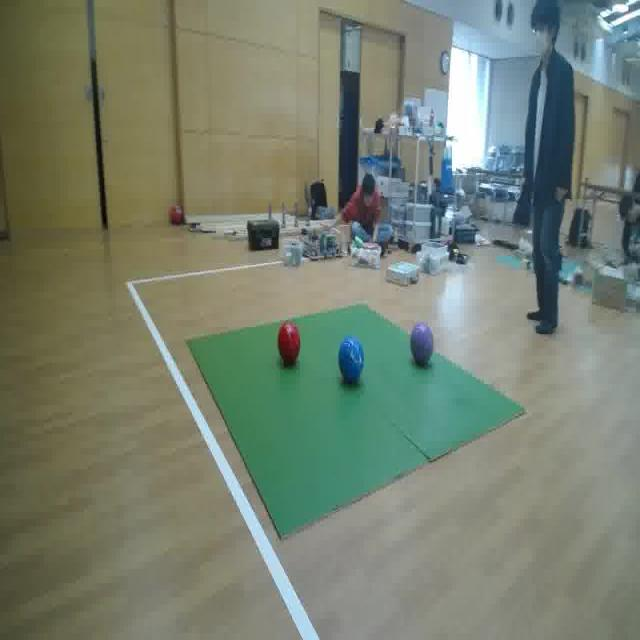blue_ball: (338, 337, 364, 384)
purple_ball: (410, 320, 434, 364)
red_ball: (277, 321, 301, 363)
